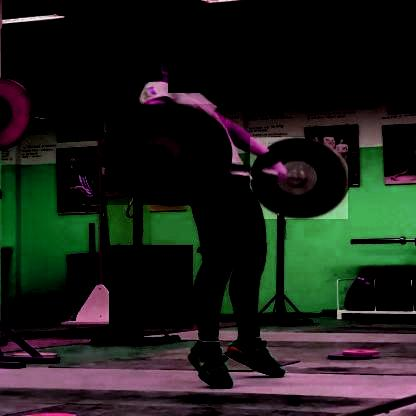barbell: (108, 105, 228, 206), (250, 138, 348, 219)
